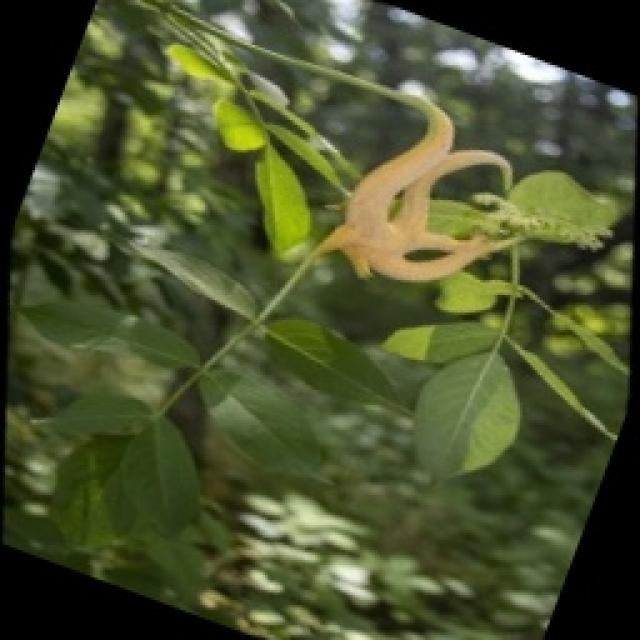Elderberry_rust: (326, 92, 536, 308)
